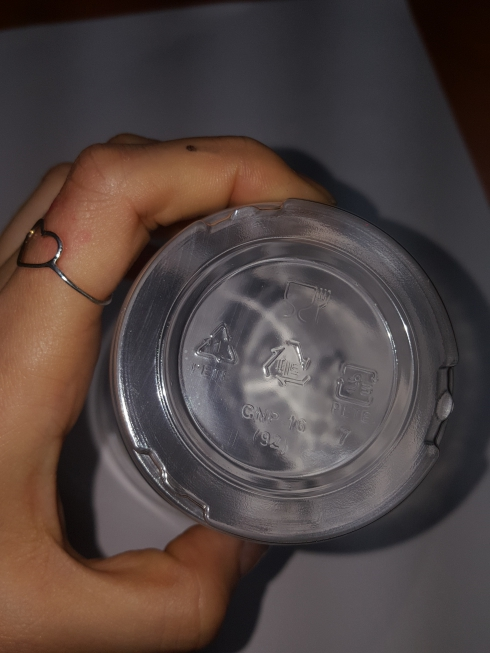recycle: (191, 301, 242, 391)
